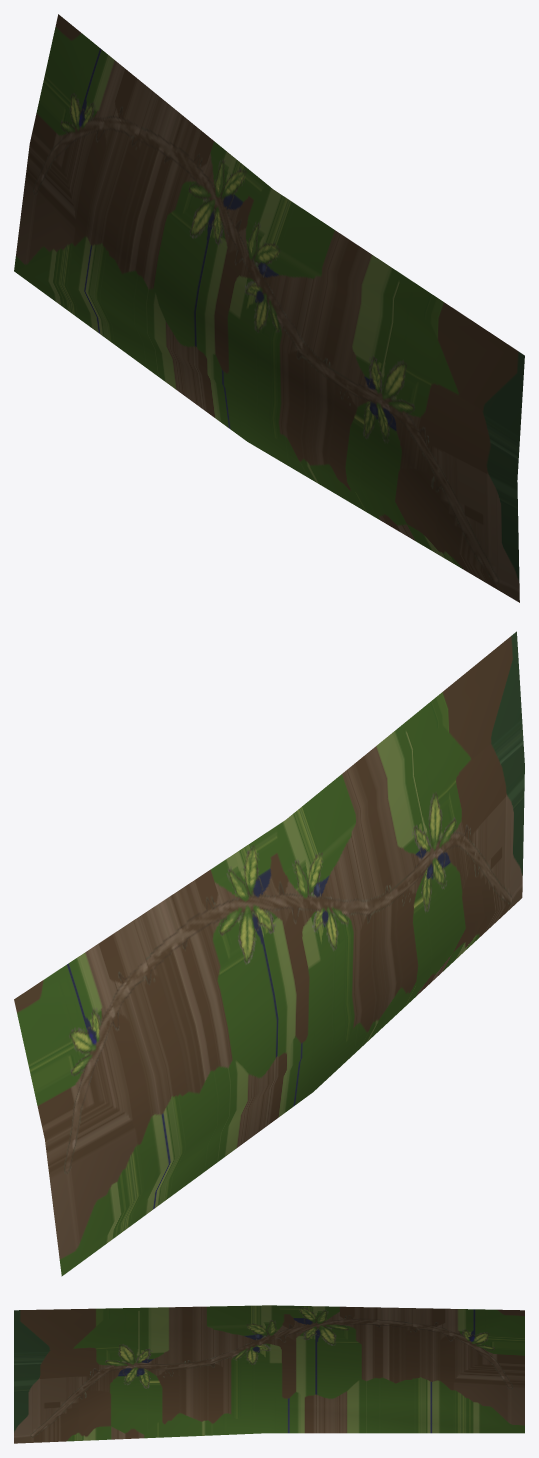
Rendered from Bramen2.fbx.
3 renders of one model, top to bottom at view 1: azimuth 30°, elevation 25°; view 2: azimuth 150°, elevation 25°; view 3: azimuth 270°, elevation 25°, orthographic. The views are drawn at different scales.
Parts seen in each view (by area): view 1: Bramen2; view 2: Bramen2; view 3: Bramen2.
Boxes of the visible parts, left/top/right/bottom form: Bramen2: left=14, top=14, right=524, bottom=602; Bramen2: left=14, top=631, right=524, bottom=1276; Bramen2: left=14, top=1305, right=524, bottom=1443.
Size of the model in its own units: 0.376 by 1.49 by 5.13.
Materials: 1 (1 with a texture image).
